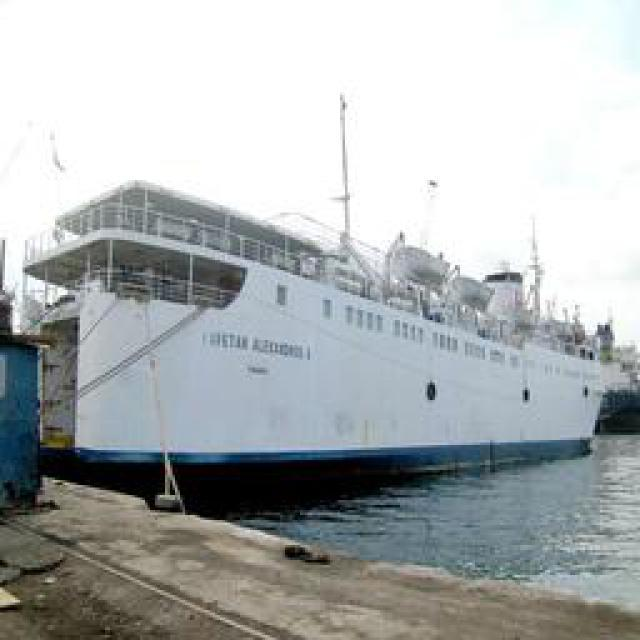Ship: (27, 166, 610, 506)
